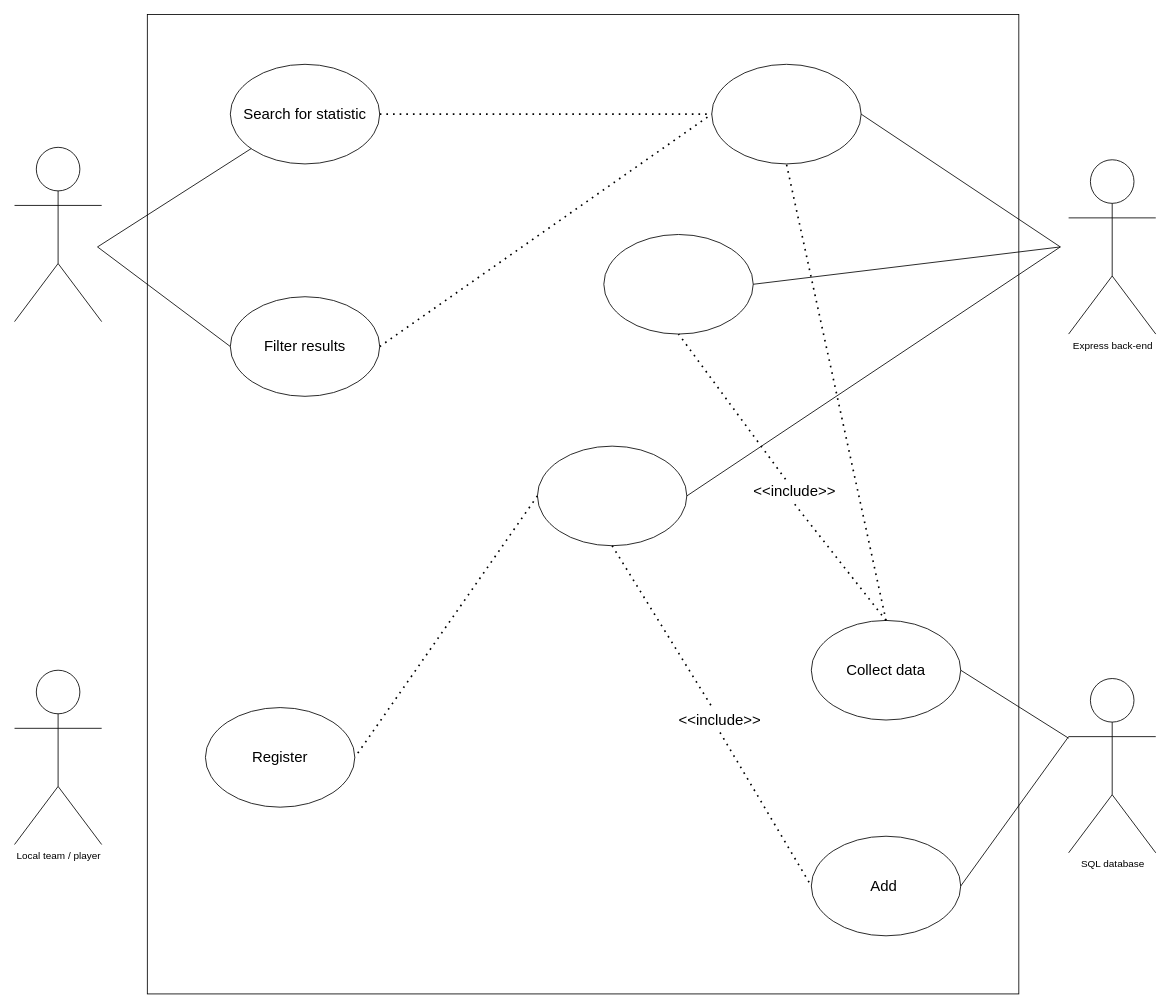
Image size: 1170x1008. Some labels were removed from this diagram. Here are the shapes that lost their labels. From the top down, the box of each, then its label:
(711, 63, 861, 164): Process
(14, 146, 102, 322): User
(603, 234, 753, 334): POST results page
(537, 445, 687, 546): Validate
